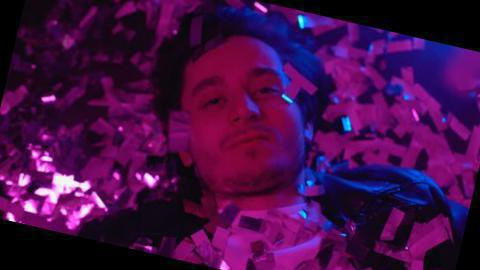Drunk: (184, 48, 296, 178)
